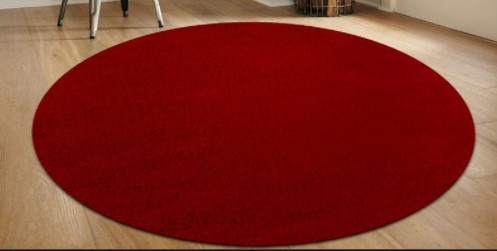su birakma alani: (33, 21, 477, 245)
